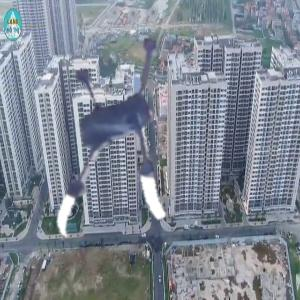drone: (14, 34, 234, 254)
